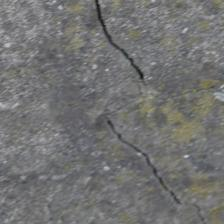Crack: (13, 44, 89, 142), (99, 74, 142, 224)
